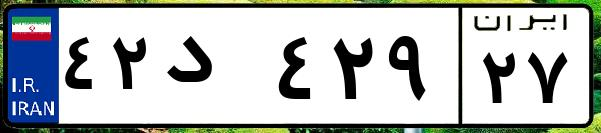2: (330, 28, 385, 110), (475, 38, 525, 113), (110, 28, 158, 98)
4: (270, 28, 330, 110), (57, 26, 110, 100)
7: (525, 38, 570, 115)
9: (385, 28, 445, 110)
د: (158, 20, 270, 120)
